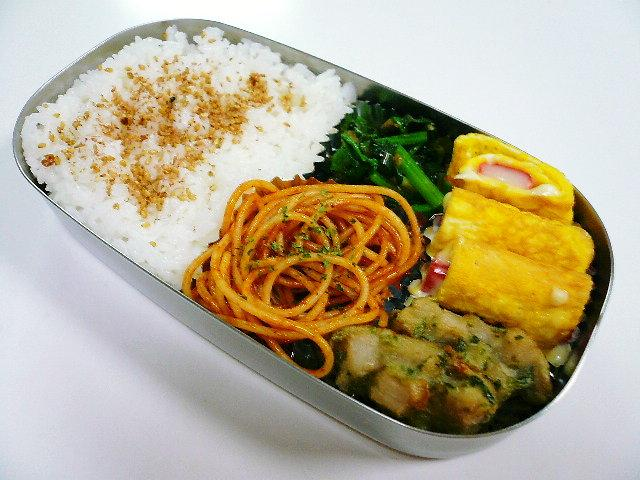rice: (21, 28, 356, 288)
